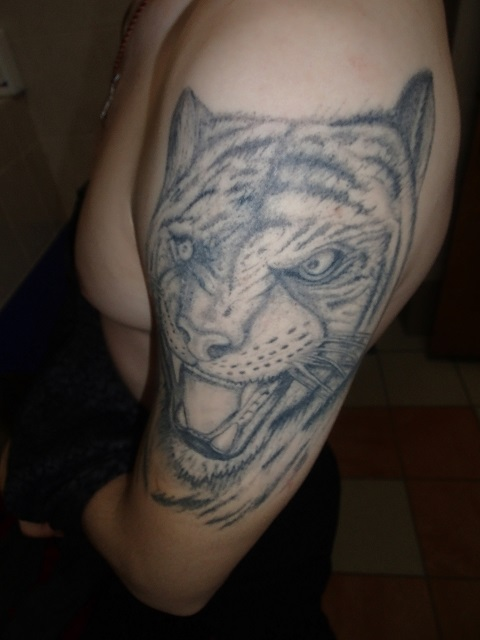tatu5_tigr: (117, 66, 463, 533)
